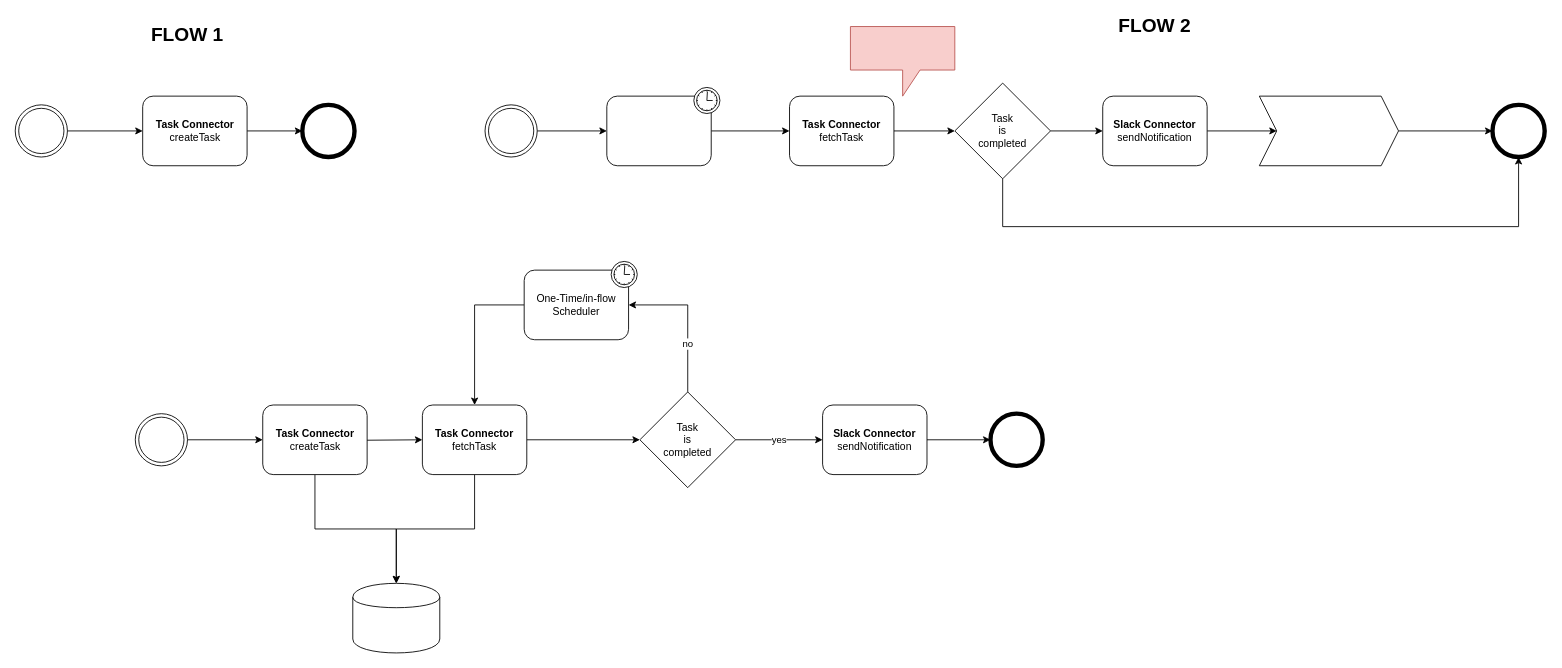
Some shapes in this 1562 by 668 pixel diagram are drawn without their labels. The centre of each missing label's shape, as x and y in pixels:
"Needs to know the task id" belongs at (x=902, y=61).
"Scheduler" belongs at (x=658, y=130).
"Snapshot Repository" belongs at (x=396, y=617).
"Stop current Flow Remove scheduler" belongs at (x=1328, y=130).
